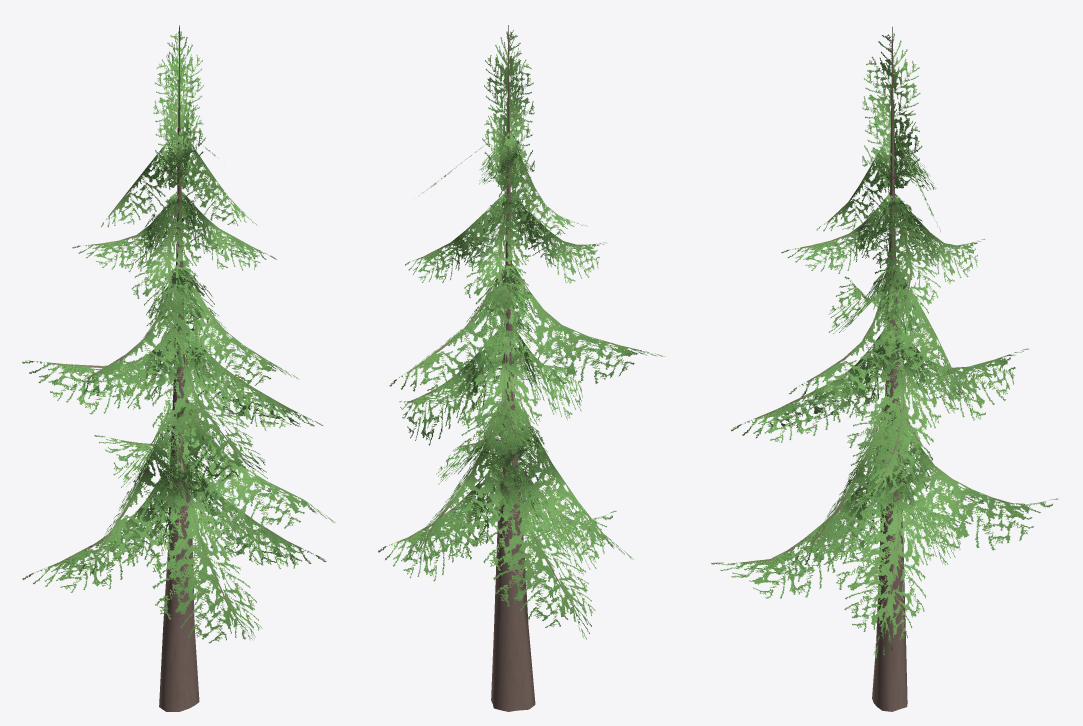
The model's file is tree_Pine_S1_LOD0.fbx.
The picture shows the model from 3 angles, left to right: view 1: azimuth 30°, elevation 25°; view 2: azimuth 150°, elevation 25°; view 3: azimuth 270°, elevation 25°; orthographic projection.
Parts seen in each view (by area): view 1: Pine_S1_LOD0; view 2: Pine_S1_LOD0; view 3: Pine_S1_LOD0.
Part boxes in pixels (box(x1,y1,x2,y2)): Pine_S1_LOD0: box(22, 25, 335, 711); Pine_S1_LOD0: box(378, 25, 665, 711); Pine_S1_LOD0: box(711, 26, 1058, 711).
Size of the model in its own units: 384 by 869 by 426.
